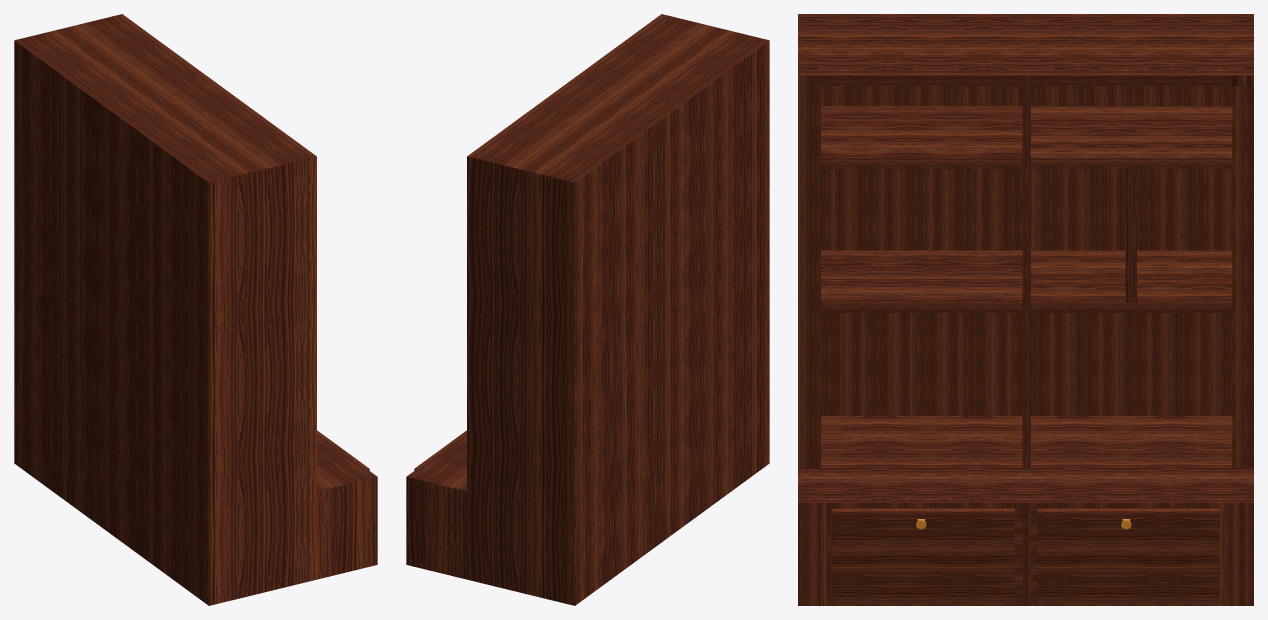
Rendered from Armário 2.fbx.
3 views of the same model, side by side, from view 1: azimuth 30°, elevation 25°; view 2: azimuth 150°, elevation 25°; view 3: azimuth 270°, elevation 25° (orthographic). The views are drawn at different scales.
Parts seen in each view (by area): view 1: Cube.418; view 2: Cube.418; view 3: Cube.418, Cube.380, Cube.379.
Part boxes in pixels (x1,y1,x2,y2): Cube.418: (14, 14, 377, 605); Cube.418: (406, 14, 769, 605); Cube.418: (798, 14, 1253, 605); Cube.380: (1037, 508, 1219, 604); Cube.379: (832, 508, 1014, 604).
Size of the model in its own units: 275 by 618 by 515.
